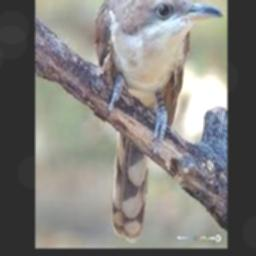Cuckoo: (94, 0, 224, 238)
